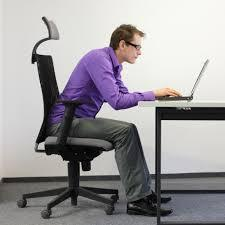Bad Sitting Posture: (52, 7, 194, 140)
